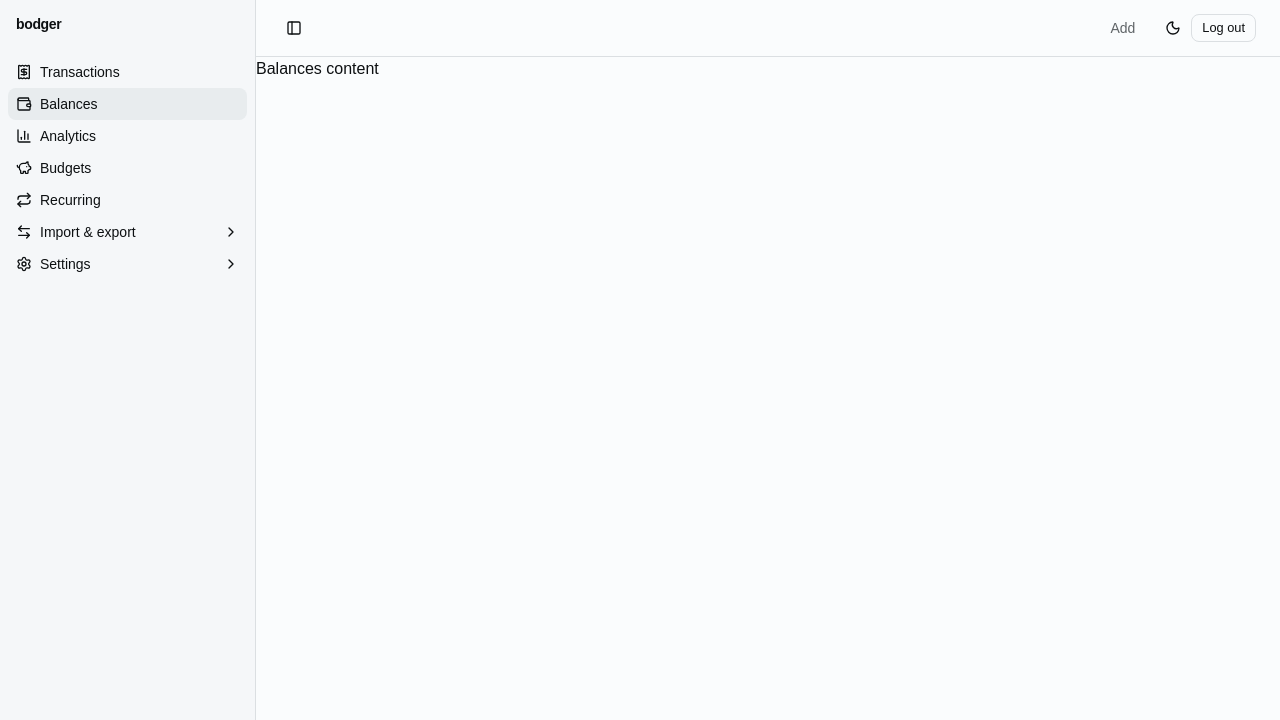
AppLayout › opens the transaction dialog from Add, and navigates to /transactions after recording
Step 1. Click the button "Add" → click(1123, 28), box [1098, 12, 1147, 44]
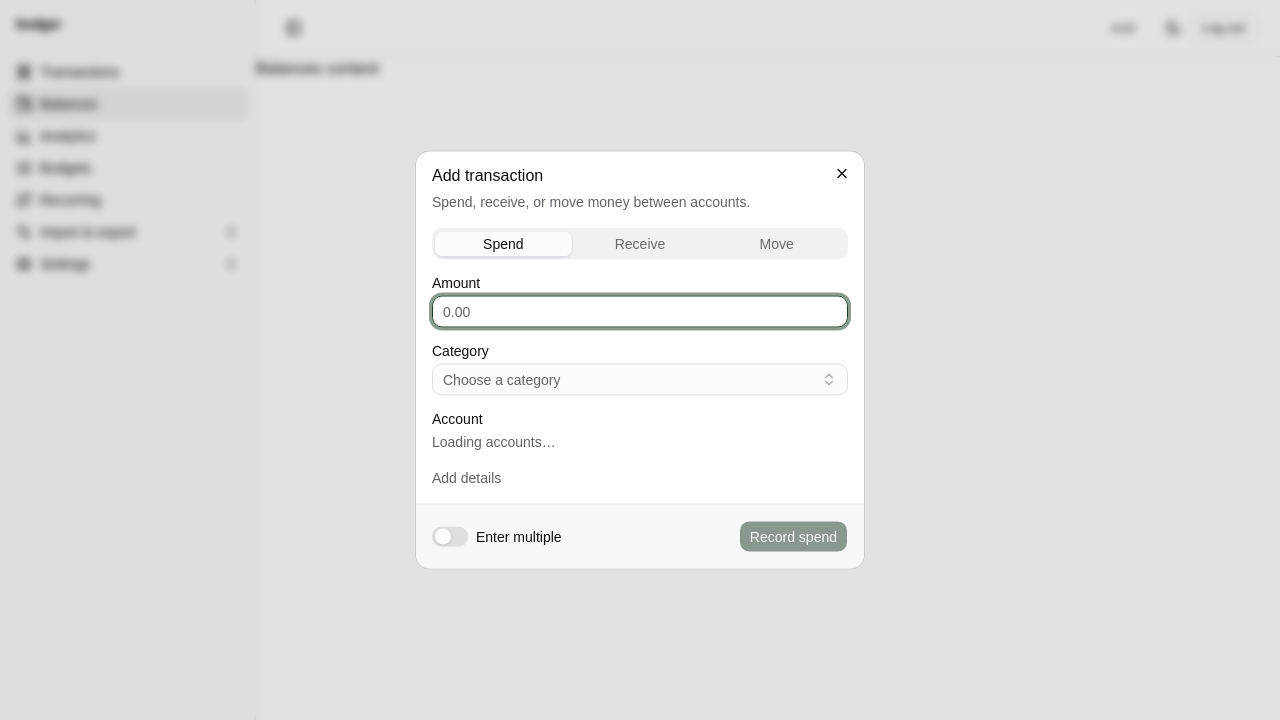
Result: the dialog "Add transaction" is shown at [416, 152, 864, 568]
Step 2. Type "5.00" into the field labelled "Amount" → (640, 312), box [432, 296, 848, 328]
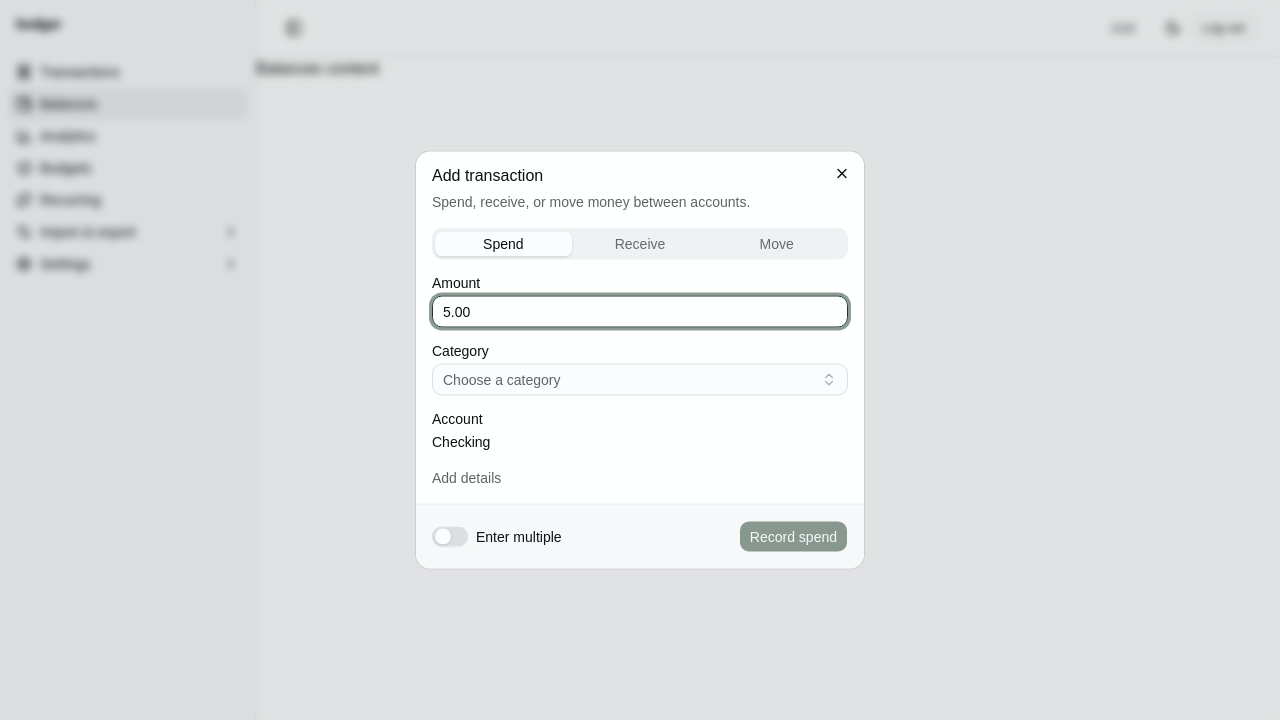
Step 3. Click the dropdown labelled "category" → click(502, 380), box [432, 364, 848, 396]
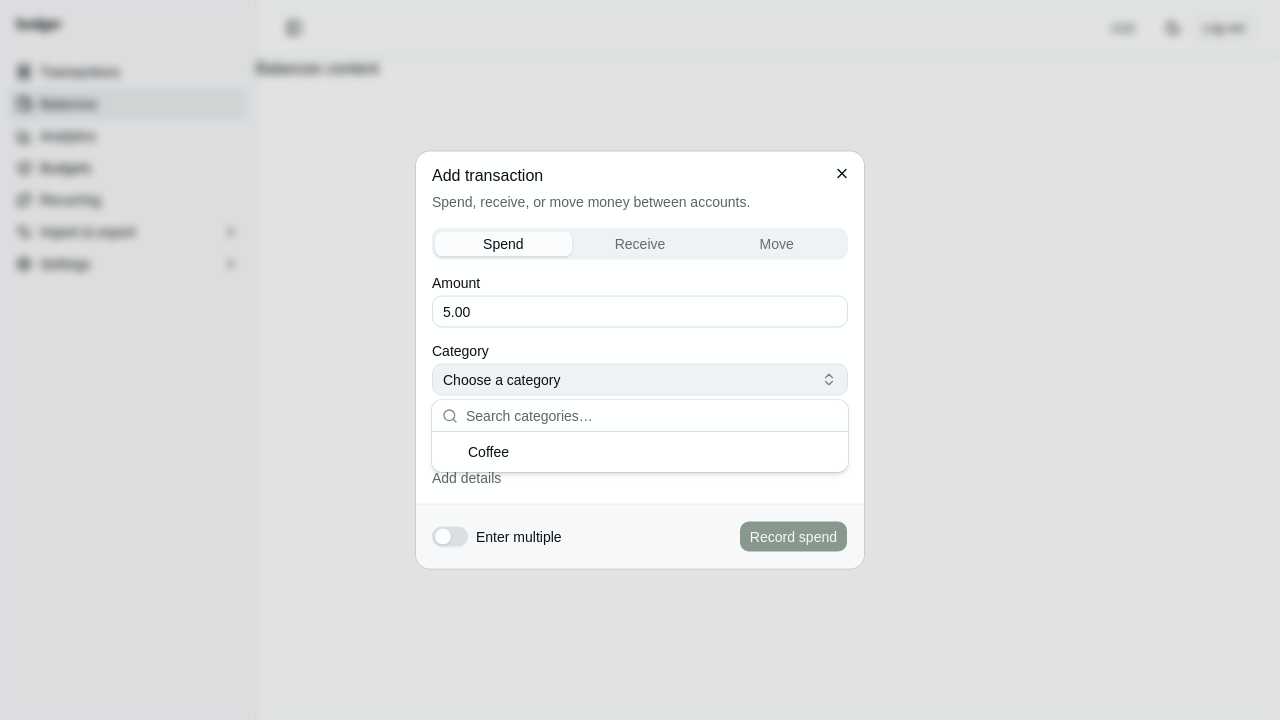
Step 4. Click the option "Coffee" → click(488, 452), box [468, 444, 509, 460]
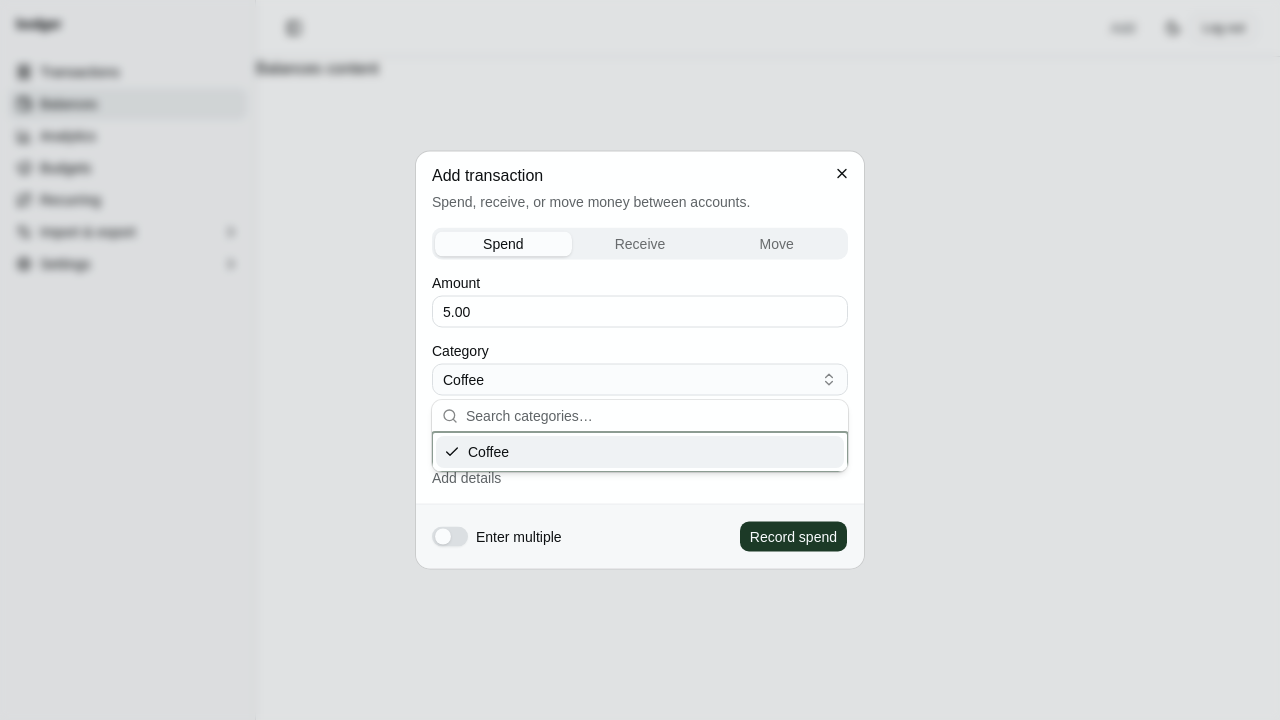
Step 5. Click the button "Record spend" → click(793, 536), box [739, 520, 848, 552]
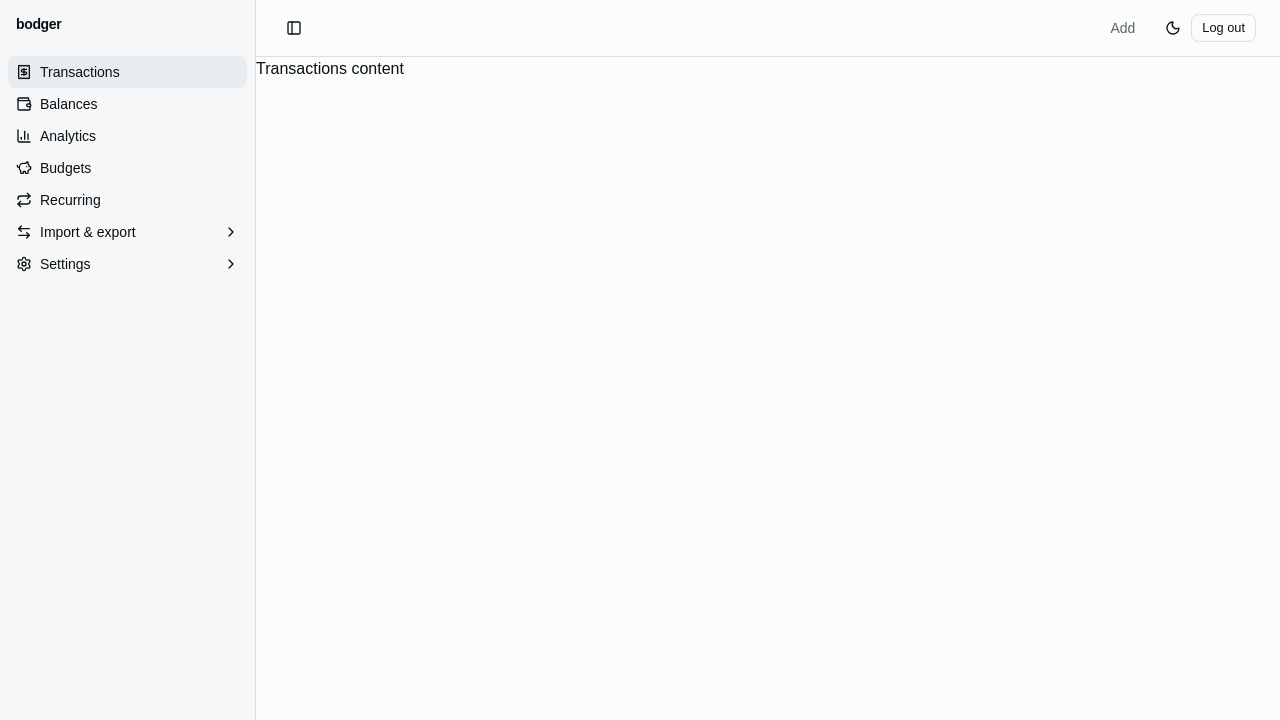
Result: the text "Transactions content" is shown at [256, 60, 404, 77]
